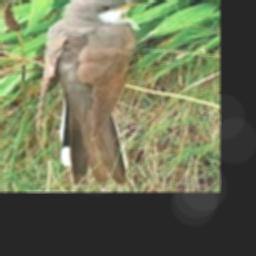Cuckoo: (41, 0, 149, 181)
